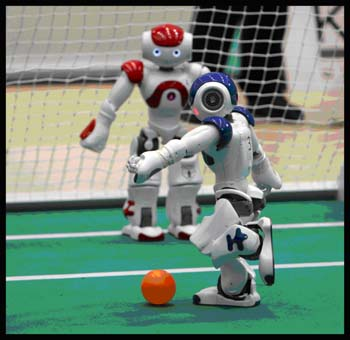nao: (124, 62, 298, 316), (67, 16, 208, 245)
